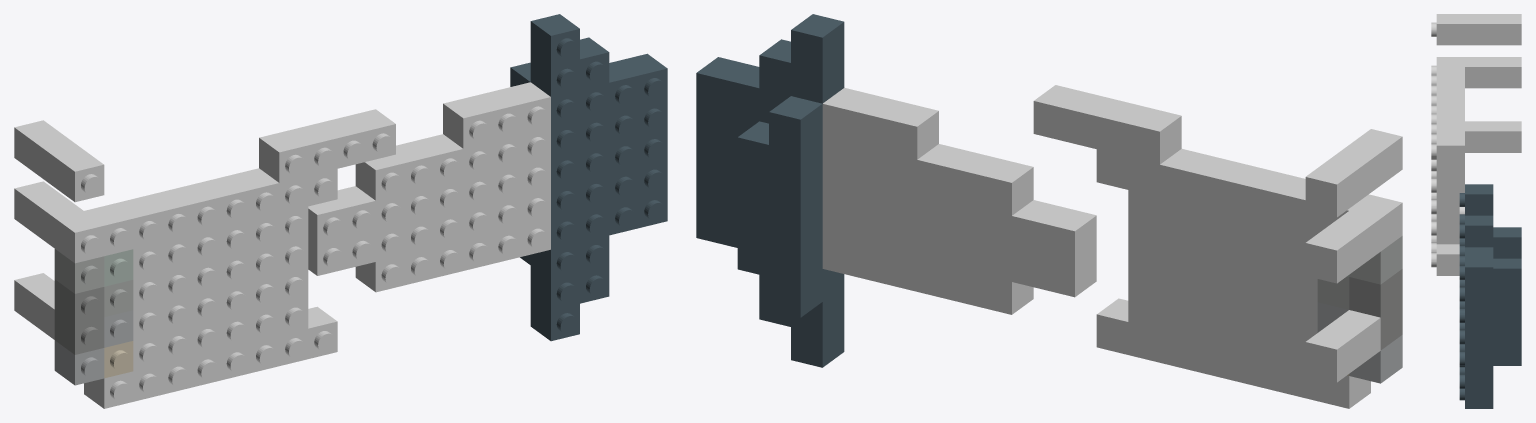
The model's file is full.glb.
The picture shows the model from 3 angles, left to right: view 1: azimuth 30°, elevation 25°; view 2: azimuth 150°, elevation 25°; view 3: azimuth 270°, elevation 25°; orthographic projection. The views are drawn at different scales.
Visible parts, largest first — view 1: world; view 2: world; view 3: world.
Part boxes in pixels (left/top/right/bottom): world: left=14, top=14, right=667, bottom=408; world: left=696, top=14, right=1402, bottom=408; world: left=1431, top=14, right=1521, bottom=408.
Size of the model in its own units: 168 by 80 by 30.6.
